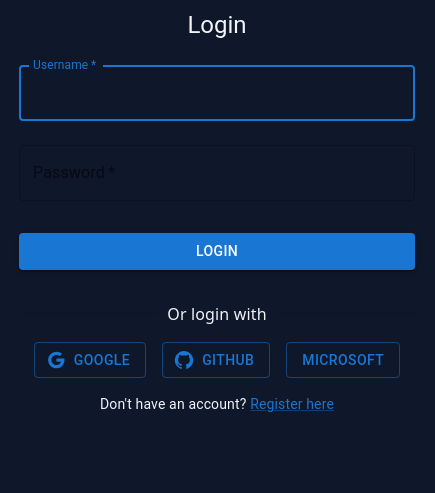
Test: LoginPage › surfaces the API failure when the API rejects with an Error with an empty message
In the field labelled "Username *": (217, 93) top-left (19, 65), bottom-right (415, 121), type "Ada"
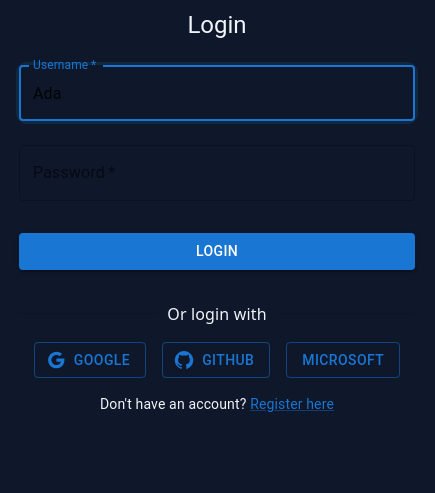
In the password field labelled "Password *": (217, 173) top-left (19, 145), bottom-right (415, 201), type "wrong-password"
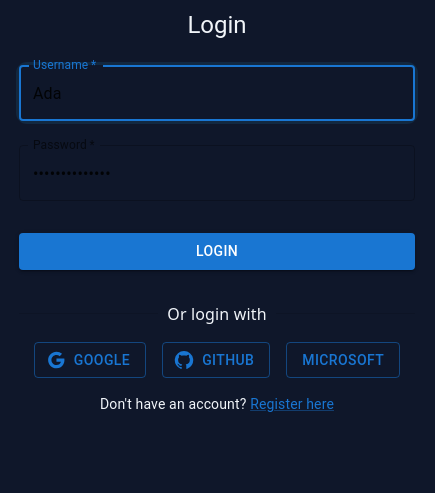
Click the button "Login": (217, 251) top-left (19, 233), bottom-right (415, 270)
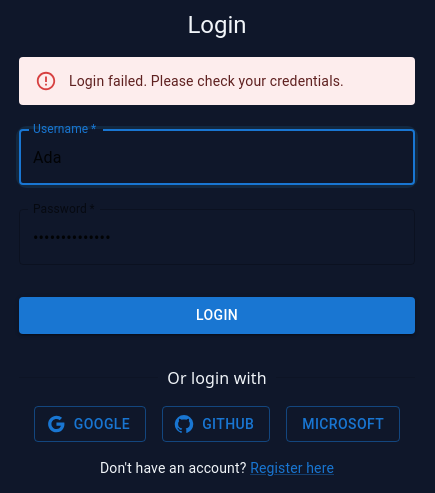
Now the message reads "Login failed. Please check your credentials.", box top-left (69, 73), bottom-right (344, 89)
